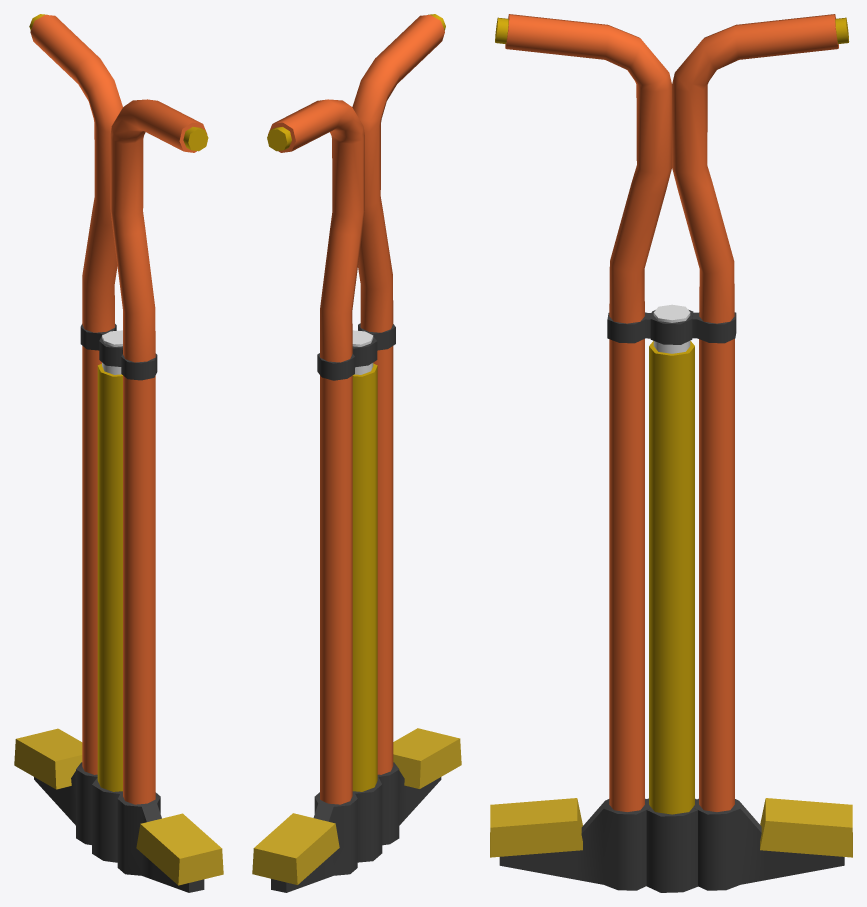
Rendered from Upper Part Jumper #3.fbx.
The picture shows the model from 3 angles, left to right: view 1: azimuth 30°, elevation 25°; view 2: azimuth 150°, elevation 25°; view 3: azimuth 270°, elevation 25°; orthographic projection. The views are drawn at different scales.
Parts seen in each view (by area): view 1: Upper Part 2; view 2: Upper Part 2; view 3: Upper Part 2.
Boxes of the visible parts, left/top/right/bottom form: Upper Part 2: left=14, top=14, right=223, bottom=892; Upper Part 2: left=252, top=14, right=461, bottom=892; Upper Part 2: left=490, top=14, right=852, bottom=892.
Size of the model in its own units: 16.11 by 266 by 101.
